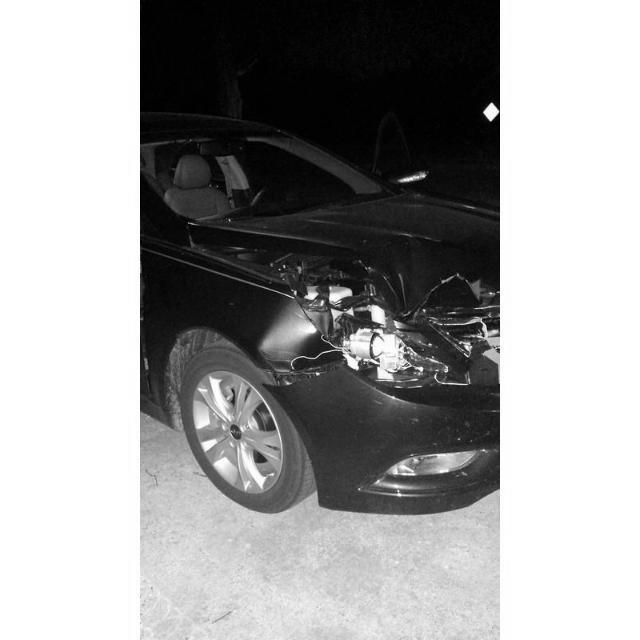bonnet-dent: (252, 189, 483, 297)
fender-dent: (186, 277, 345, 385)
